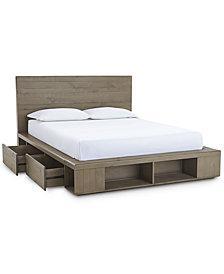bed: (3, 69, 224, 210)
